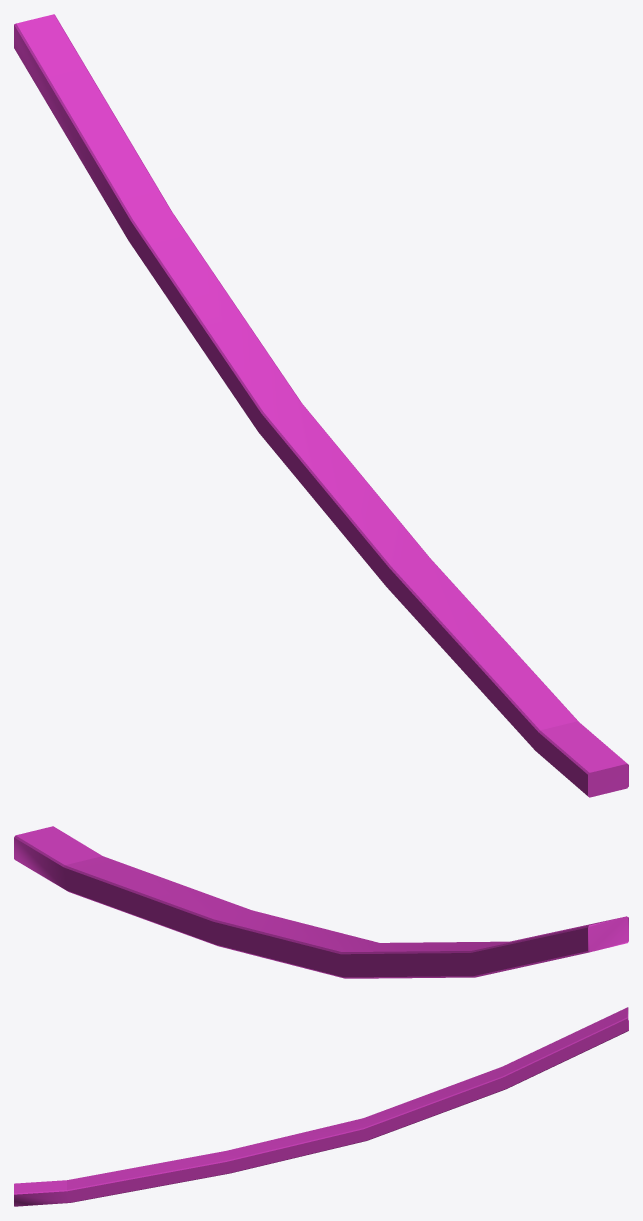
File: RoofCurveBeam.fbx
The picture shows the model from 3 angles, top to bottom: view 1: azimuth 30°, elevation 25°; view 2: azimuth 210°, elevation 25°; view 3: azimuth 270°, elevation 25°; orthographic projection. The views are drawn at different scales.
Parts seen in each view (by area): view 1: Object002; view 2: Object002; view 3: Object002.
Boxes of the visible parts, <box> form: Object002: <box>14,14,628,797</box>; Object002: <box>14,826,628,978</box>; Object002: <box>14,1007,628,1206</box>.
Size of the model in its own units: 18.23 by 444 by 151.
